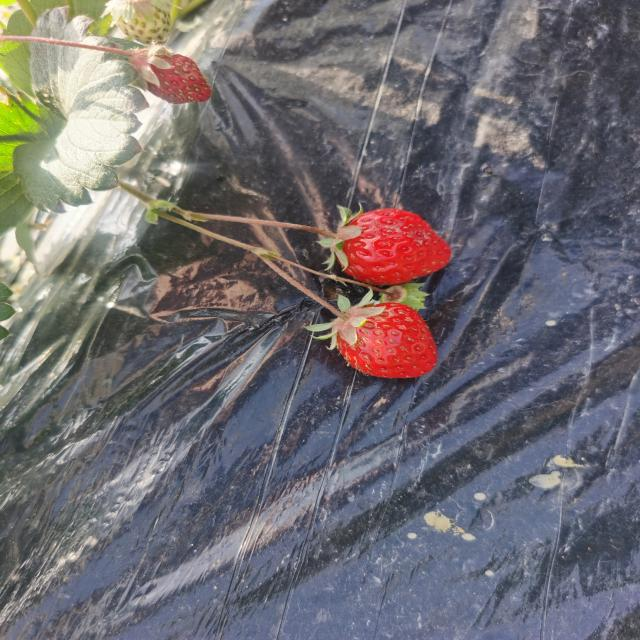stem: (306, 291, 352, 322), (284, 223, 340, 240), (82, 44, 134, 57)
strawberry: (335, 209, 451, 285), (333, 303, 437, 378), (144, 54, 211, 105)
